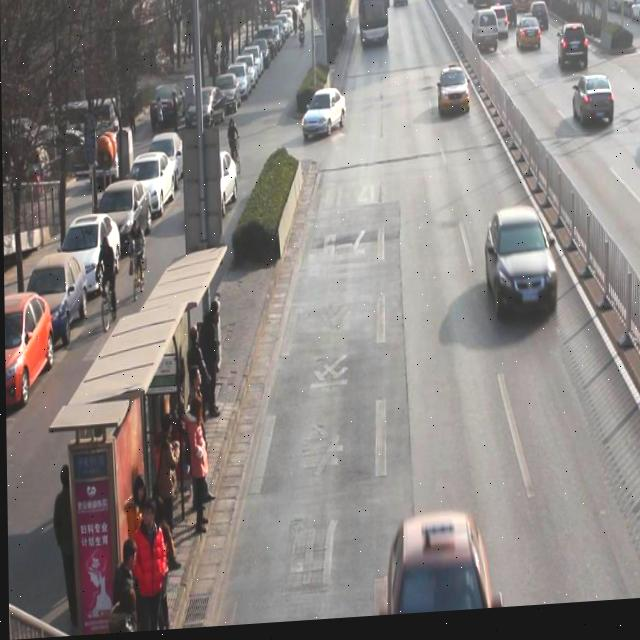car: (387, 516, 490, 620), (486, 215, 556, 325), (183, 156, 240, 225), (572, 82, 614, 138), (300, 90, 347, 140), (437, 71, 470, 123), (558, 32, 589, 79), (516, 19, 543, 60), (493, 0, 517, 34), (490, 12, 509, 47), (531, 9, 549, 39), (514, 0, 531, 19), (474, 0, 490, 15), (489, 0, 506, 13), (394, 0, 408, 14), (468, 0, 482, 8), (400, 0, 412, 4), (501, 0, 516, 1)
truck: (472, 15, 500, 63)
van: (356, 0, 388, 52)
